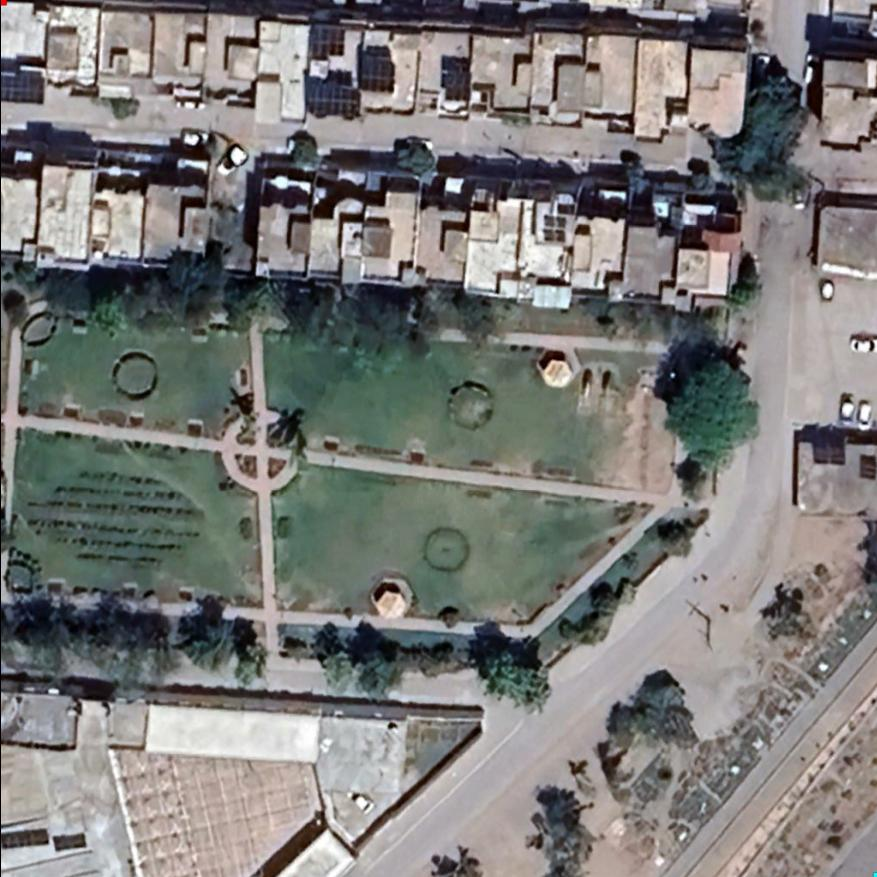Solarpanel: (303, 69, 363, 118), (355, 40, 398, 95), (0, 65, 49, 107), (440, 52, 478, 106), (305, 21, 348, 60), (539, 210, 569, 251)
